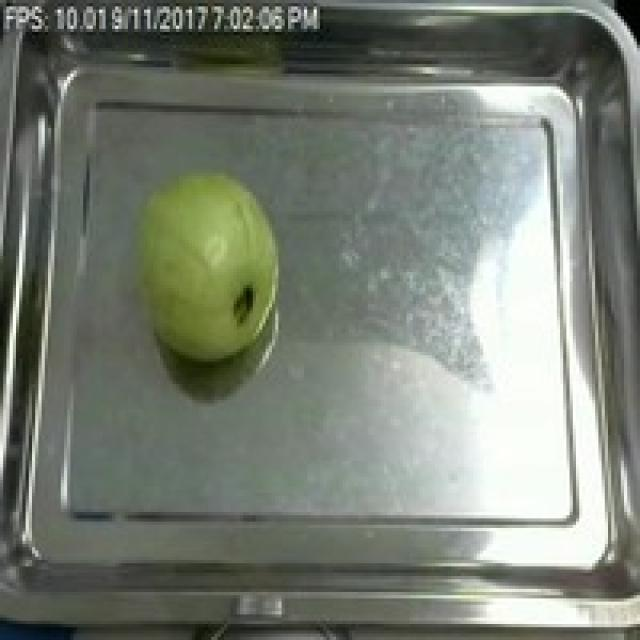Fruit: (122, 160, 291, 371)
